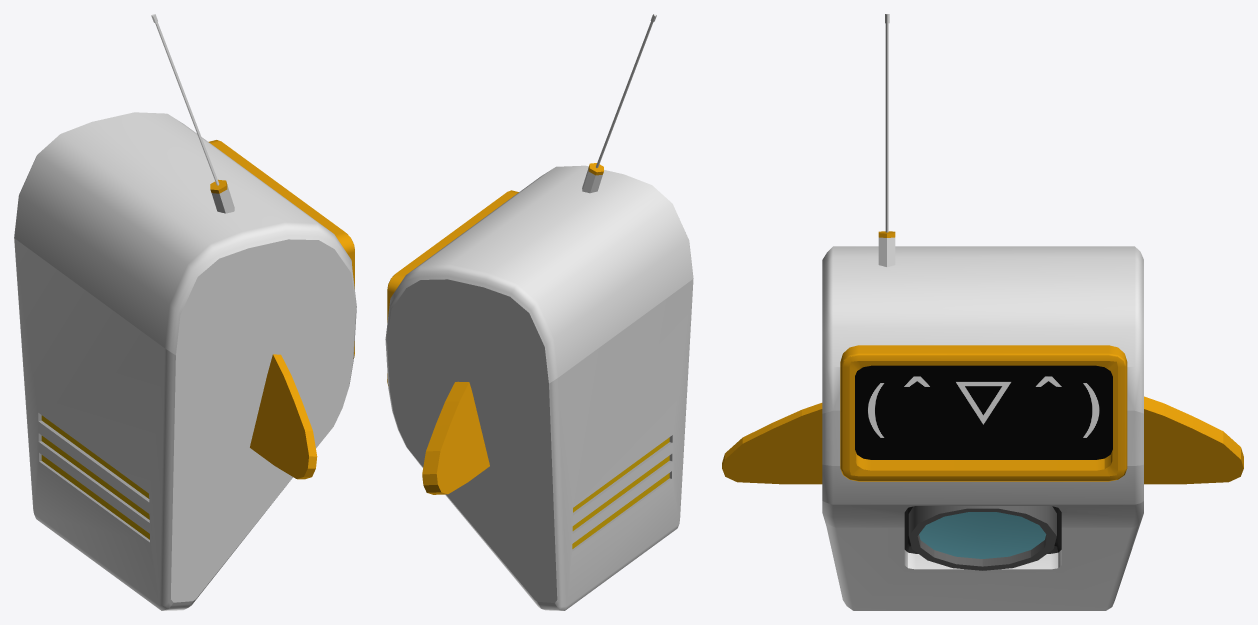
File: probe_final.fbx
3 views of the same model, side by side, from view 1: azimuth 30°, elevation 25°; view 2: azimuth 150°, elevation 25°; view 3: azimuth 270°, elevation 25° (orthographic). The views are drawn at different scales.
Visible parts, largest first — view 1: pCylinder21; view 2: pCylinder21; view 3: pCylinder21.
Part boxes in pixels (left/top/right/bottom): pCylinder21: left=14, top=14, right=356, bottom=610; pCylinder21: left=385, top=14, right=693, bottom=610; pCylinder21: left=722, top=14, right=1243, bottom=610.
Bounding box in the file's own units: 1.33 × 3.8 × 3.04.
Materials: 10 (1 with a texture image).
